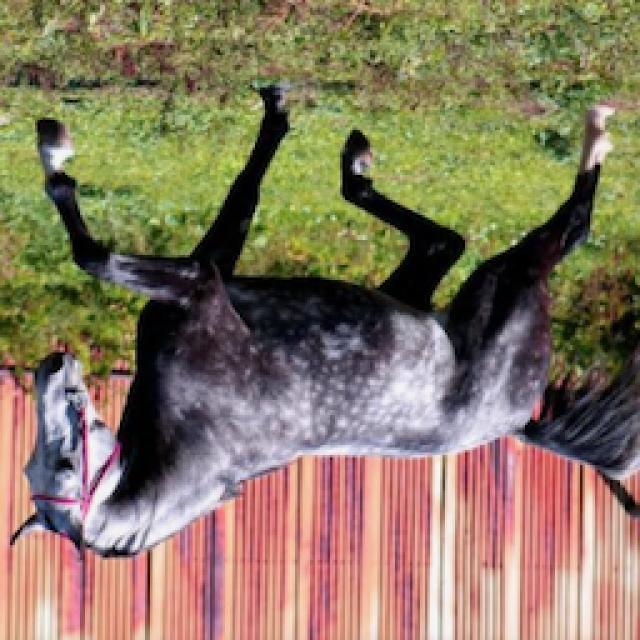Horse: (2, 78, 640, 568)
